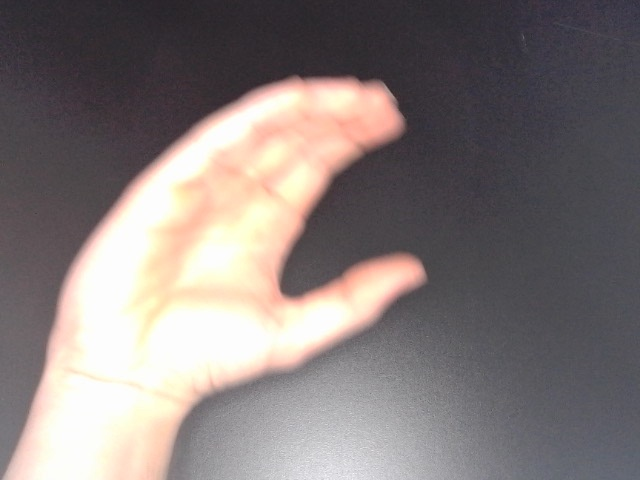c: (41, 67, 434, 416)
